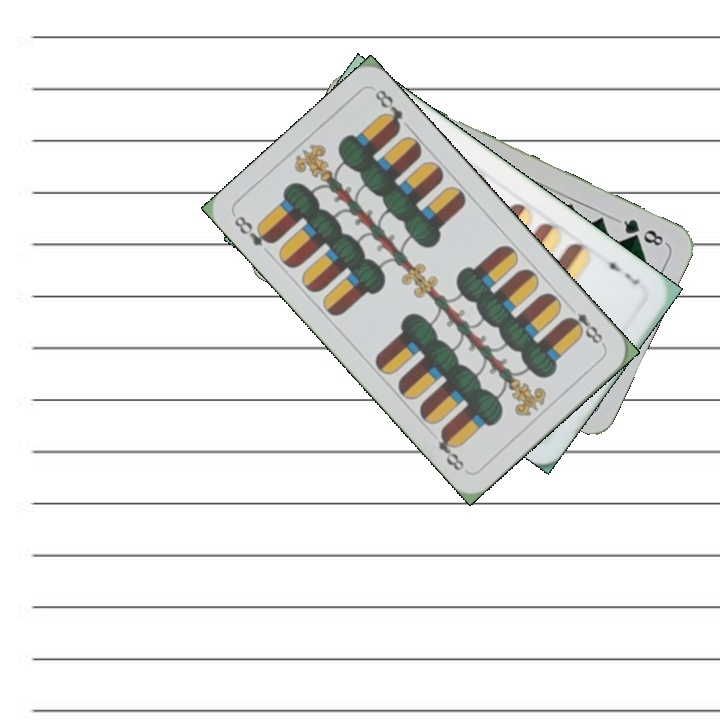E7: (600, 252, 642, 288)
E8: (562, 300, 608, 349), (230, 211, 278, 249)
G8: (613, 215, 669, 249)
